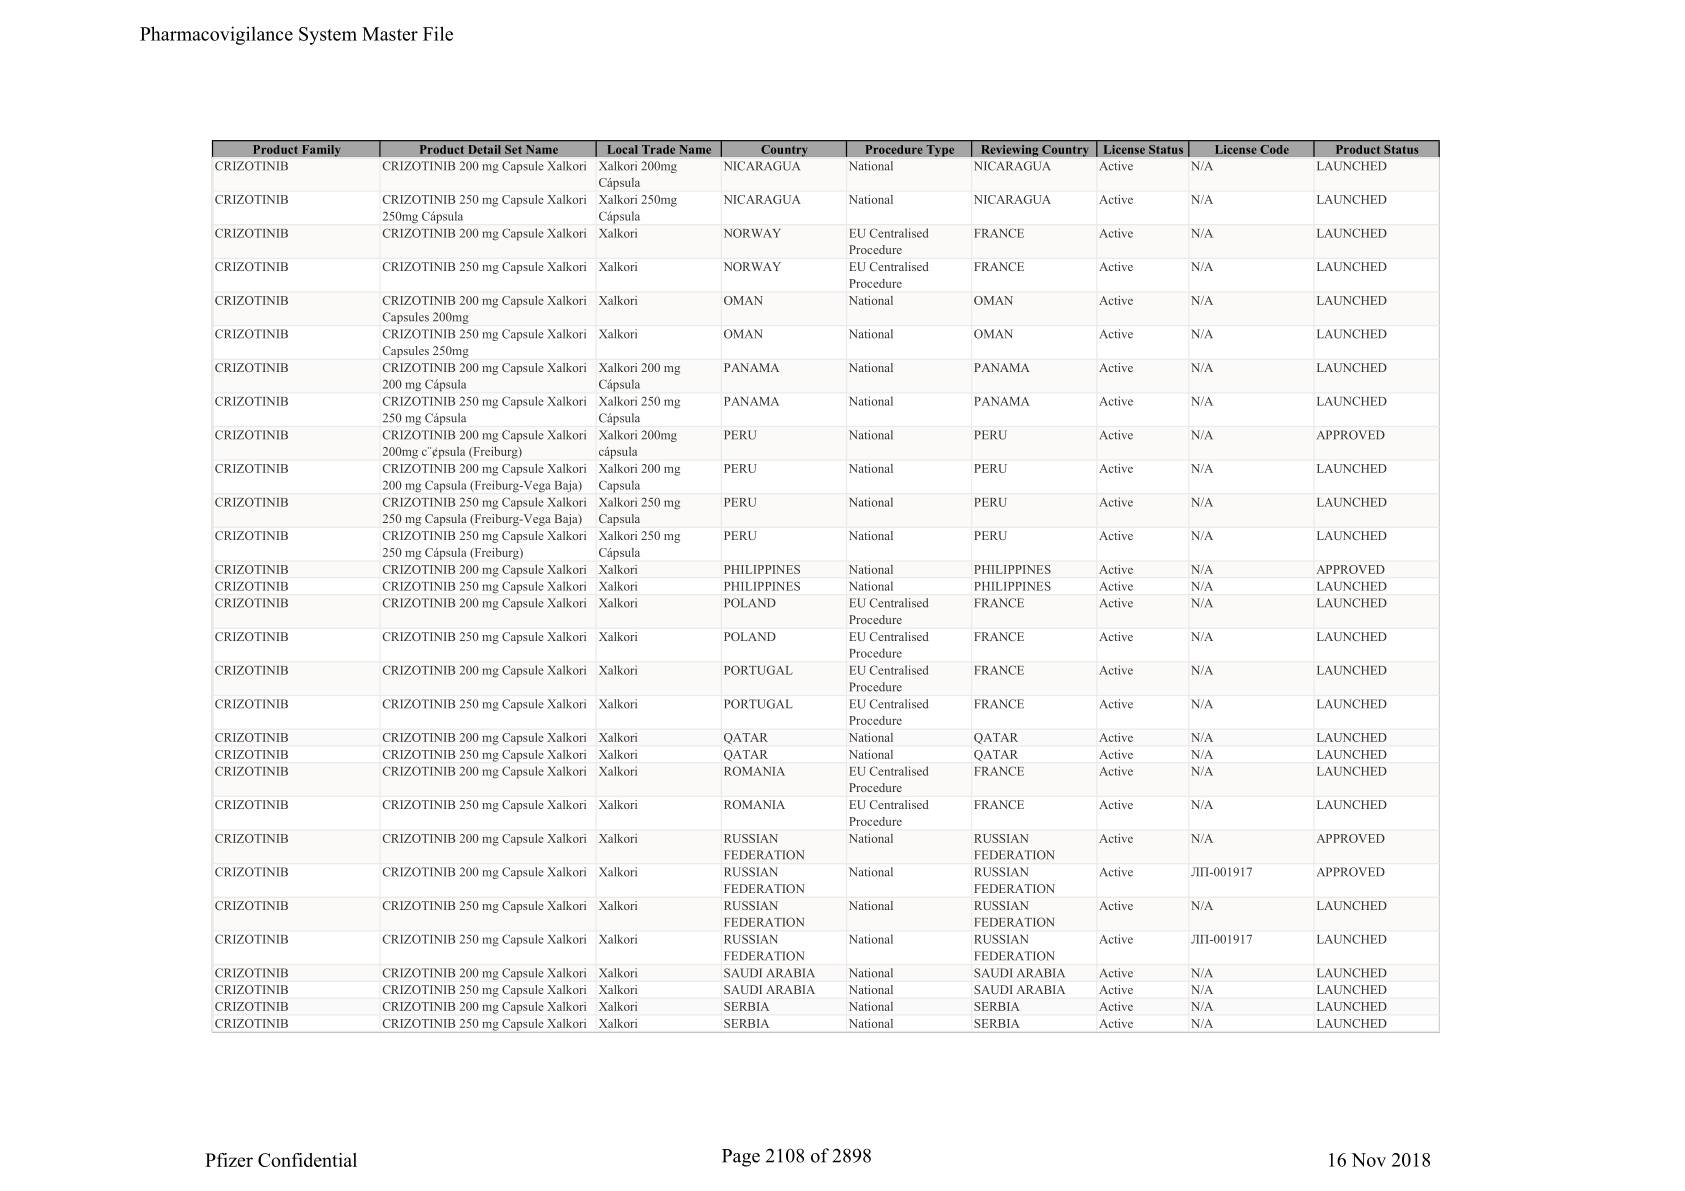full_lined: (211, 139, 1441, 1032)
